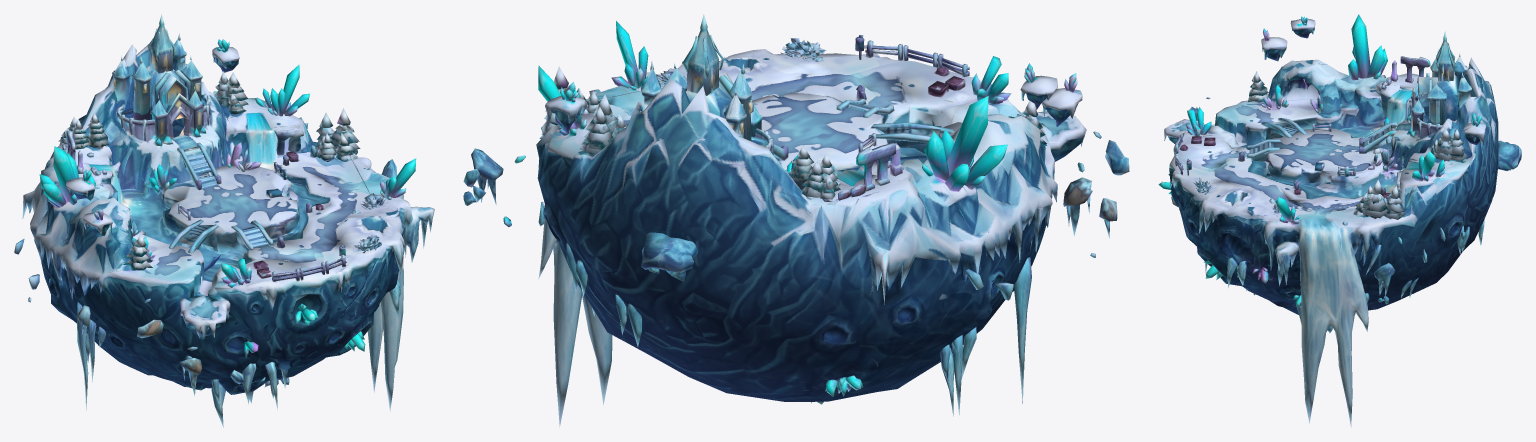
File: Meshy_AI_Floating_Ice_Castle_I_1016211304_texture.fbx
The picture shows the model from 3 angles, left to right: view 1: azimuth 30°, elevation 25°; view 2: azimuth 150°, elevation 25°; view 3: azimuth 270°, elevation 25°; orthographic projection. The views are drawn at different scales.
Parts seen in each view (by area): view 1: Mesh_0; view 2: Mesh_0; view 3: Mesh_0.
Boxes of the visible parts, bbox=[...] form: Mesh_0: bbox=[14, 14, 434, 427]; Mesh_0: bbox=[463, 14, 1129, 427]; Mesh_0: bbox=[1158, 14, 1521, 427].
Bounding box in the file's own units: 95.36 × 82.81 × 82.71.
1 material, 1 textured.
